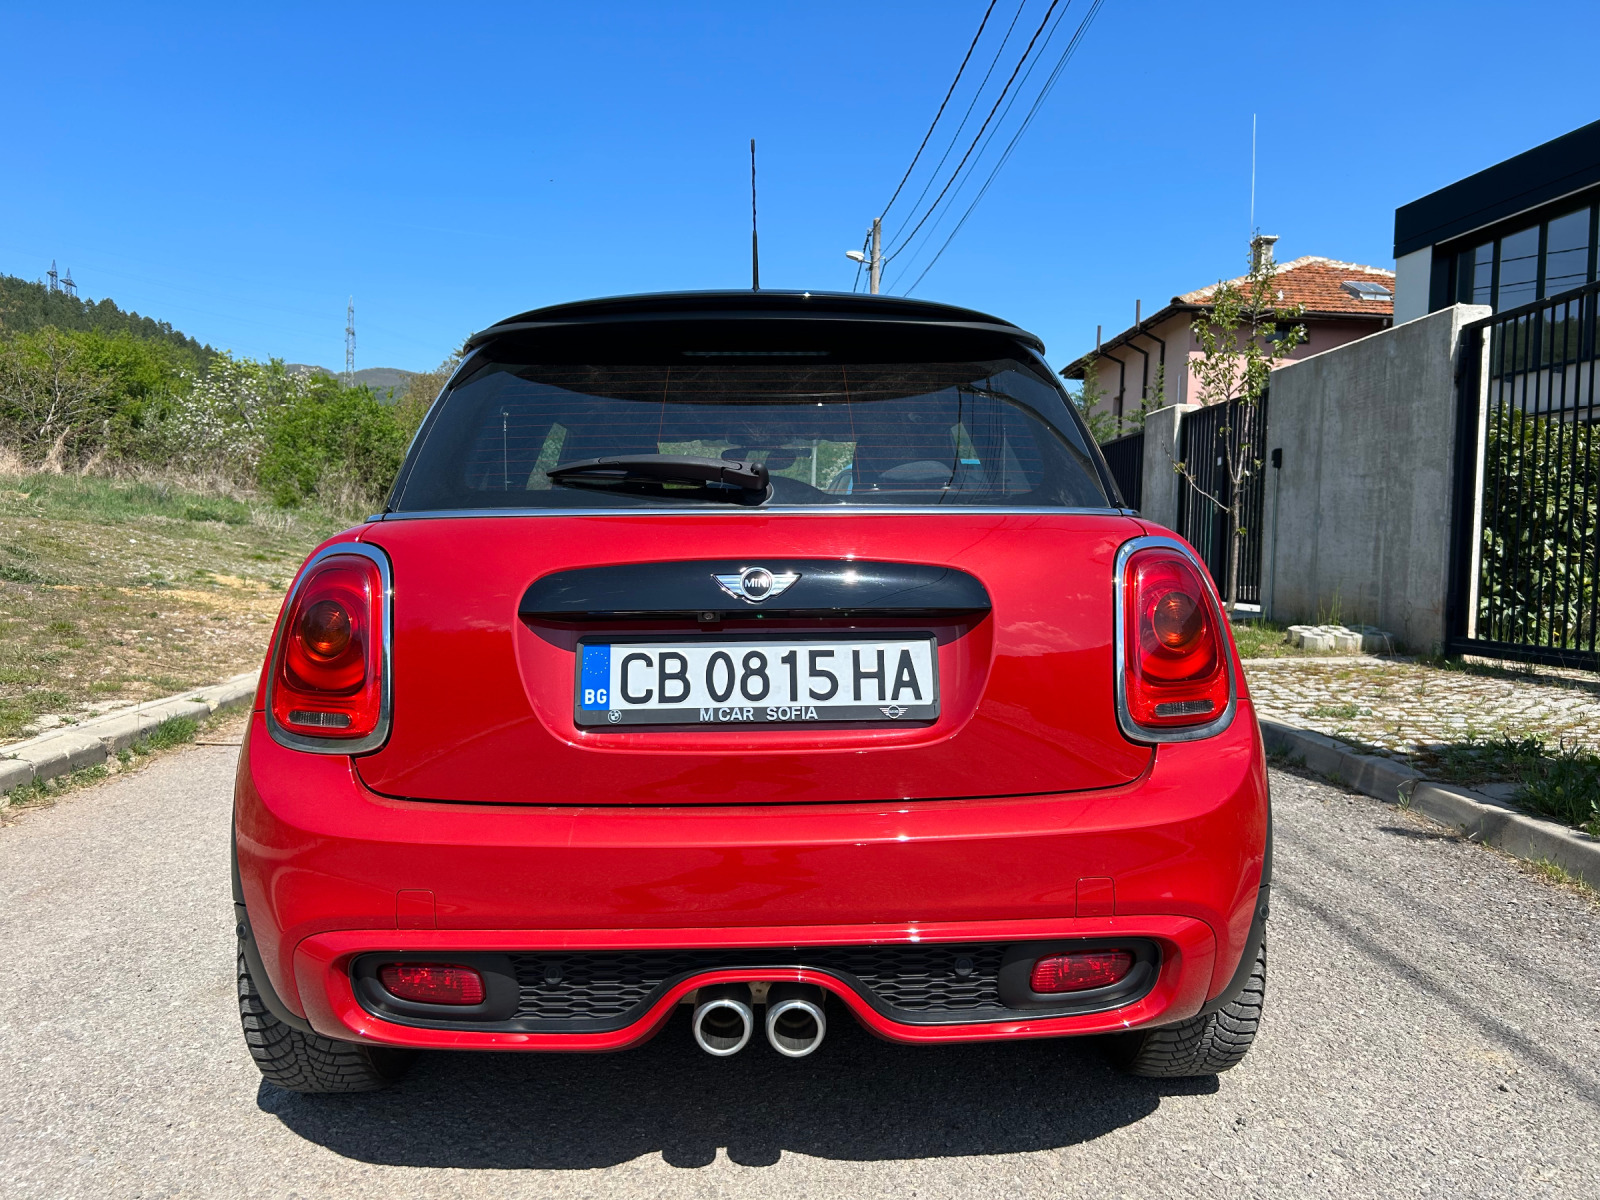registration_plate: (571, 633, 942, 731)
